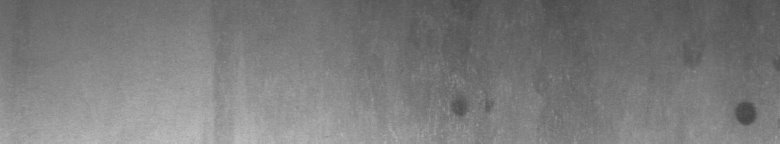fi: (697, 53, 776, 132)
